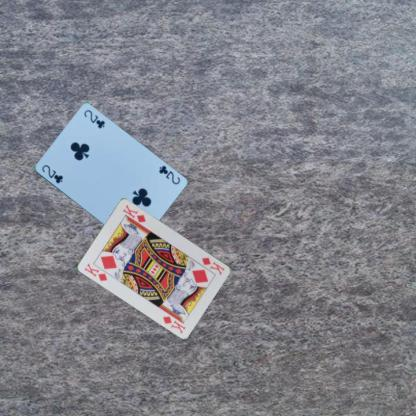2c: (156, 163, 181, 186), (39, 162, 64, 184)
Kd: (82, 260, 108, 282), (199, 255, 226, 276)
